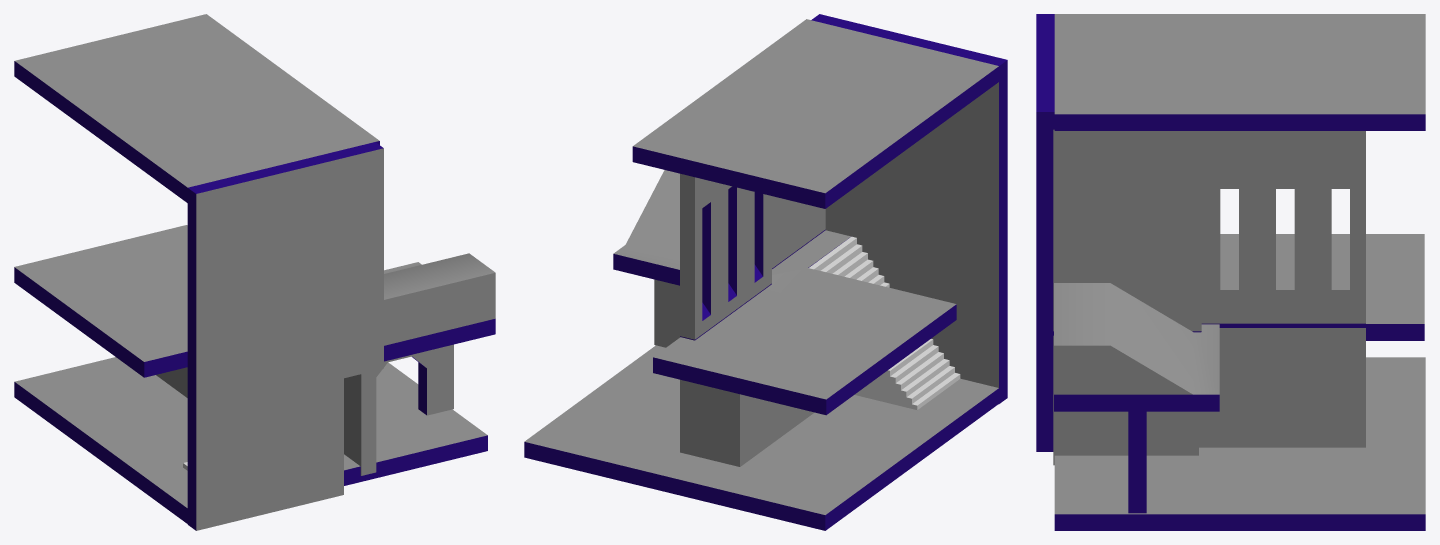
Rendered from level1_v2.FBX.
3 renders of one model, left to right at view 1: azimuth 30°, elevation 25°; view 2: azimuth 150°, elevation 25°; view 3: azimuth 270°, elevation 25°, orthographic. The views are drawn at different scales.
Visible parts, largest first — view 1: Level_Props011, Level_Props010, Level_Props04, Level_Props02, Level_Props06, Level_Props01; view 2: Level_Props010, Level_Props02, Level_Props011, Level_Props04, Level_Props06, Level_Props03, Level_Props01; view 3: Level_Props06, Level_Props010, Level_Props02, Level_Props04, Level_Props011, Level_Props01.
Part boxes in pixels (x1=…): Level_Props011: x1=187, y1=142, x2=383, y2=530; Level_Props010: x1=14, y1=14, x2=379, y2=202; Level_Props04: x1=14, y1=225, x2=495, y2=377; Level_Props02: x1=14, y1=357, x2=487, y2=523; Level_Props06: x1=156, y1=367, x2=376, y2=475; Level_Props01: x1=376, y1=344, x2=453, y2=415; Level_Props010: x1=632, y1=19, x2=999, y2=208; Level_Props02: x1=524, y1=345, x2=999, y2=530; Level_Props011: x1=811, y1=14, x2=1007, y2=403; Level_Props04: x1=613, y1=170, x2=956, y2=415; Level_Props06: x1=680, y1=173, x2=825, y2=466; Level_Props03: x1=809, y1=236, x2=960, y2=409; Level_Props01: x1=654, y1=279, x2=679, y2=347; Level_Props06: x1=1053, y1=129, x2=1365, y2=465; Level_Props010: x1=1054, y1=14, x2=1425, y2=130; Level_Props02: x1=1054, y1=357, x2=1425, y2=530; Level_Props04: x1=1054, y1=234, x2=1424, y2=411; Level_Props011: x1=1036, y1=14, x2=1054, y2=451; Level_Props01: x1=1128, y1=411, x2=1146, y2=513.
Size of the model in its own units: 205 by 215 by 210.
